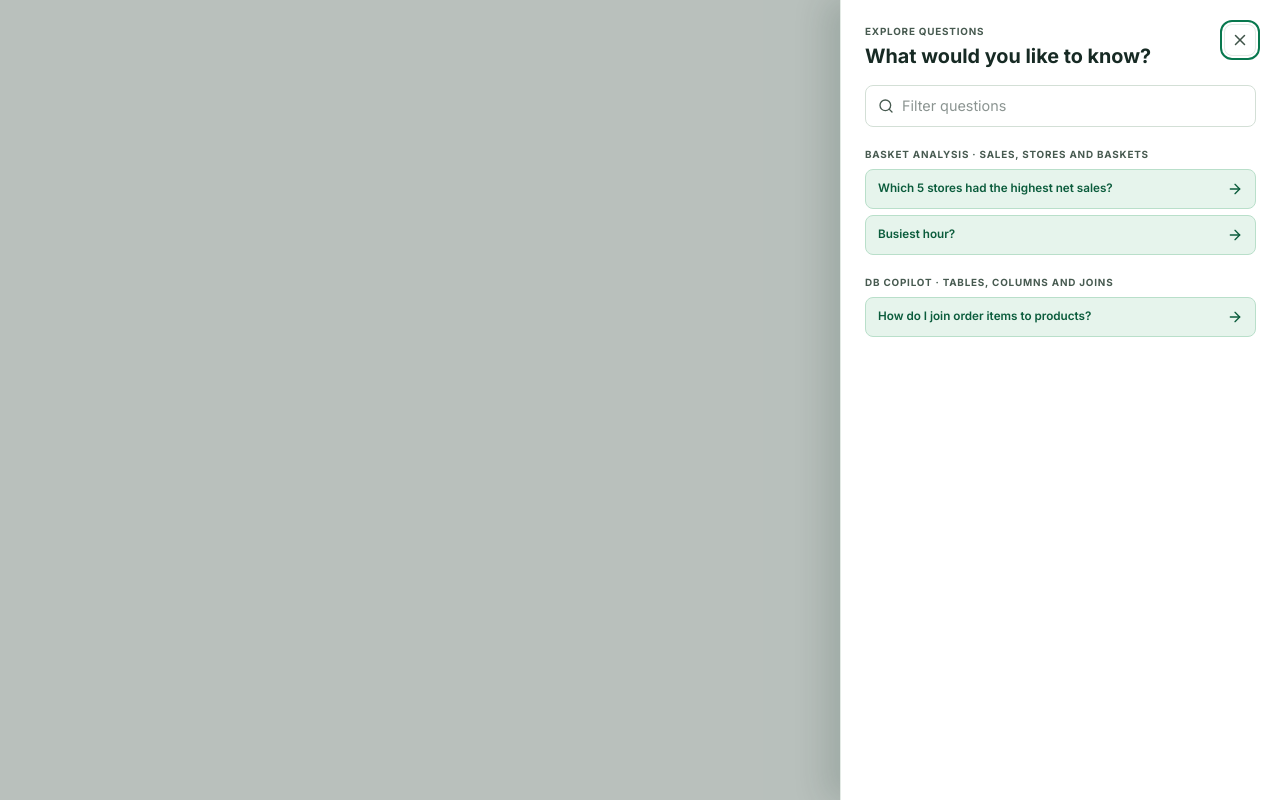
Test: ExploreQuestions › says when nothing matches
Type "weather" into the search field labelled "Filter questions" at (1072, 106), box [902,86,1243,126]
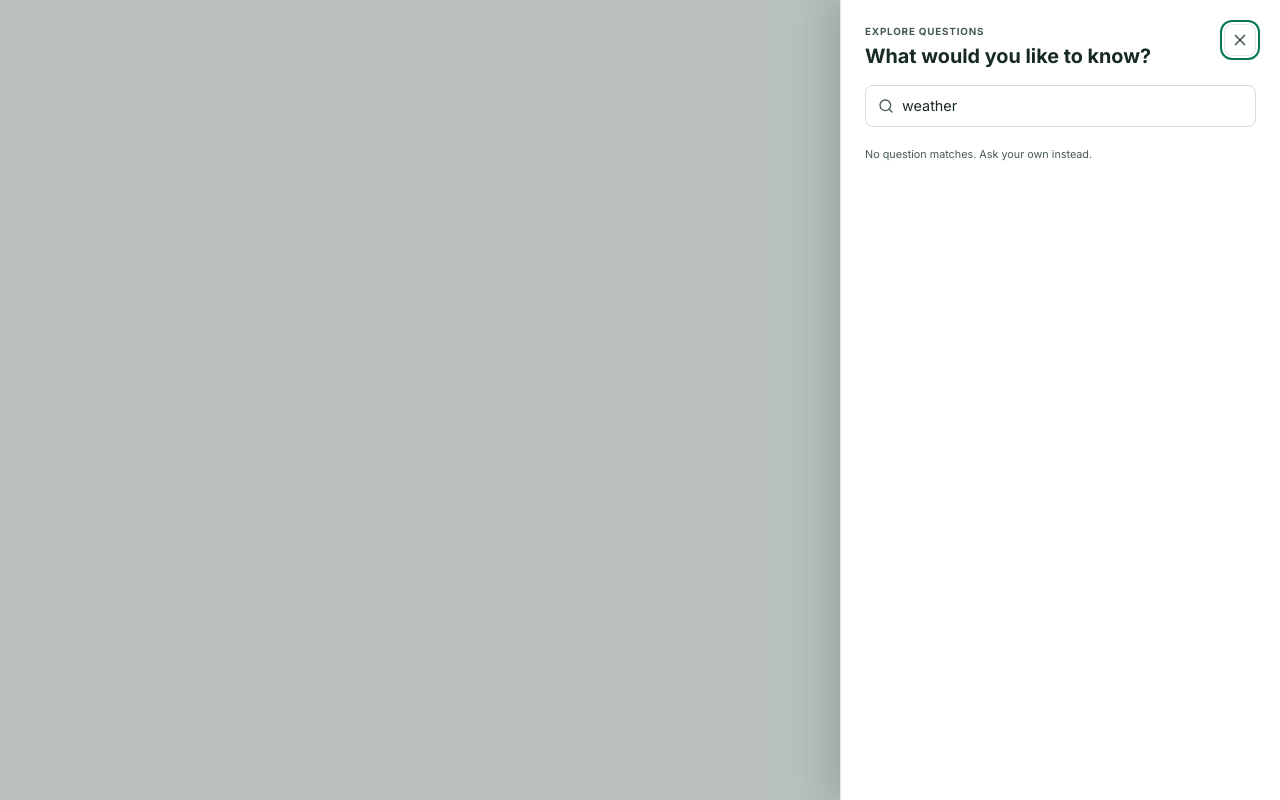
expect the text "No question matches. Ask your own instead." is shown: met, box [865,148,1092,161]
